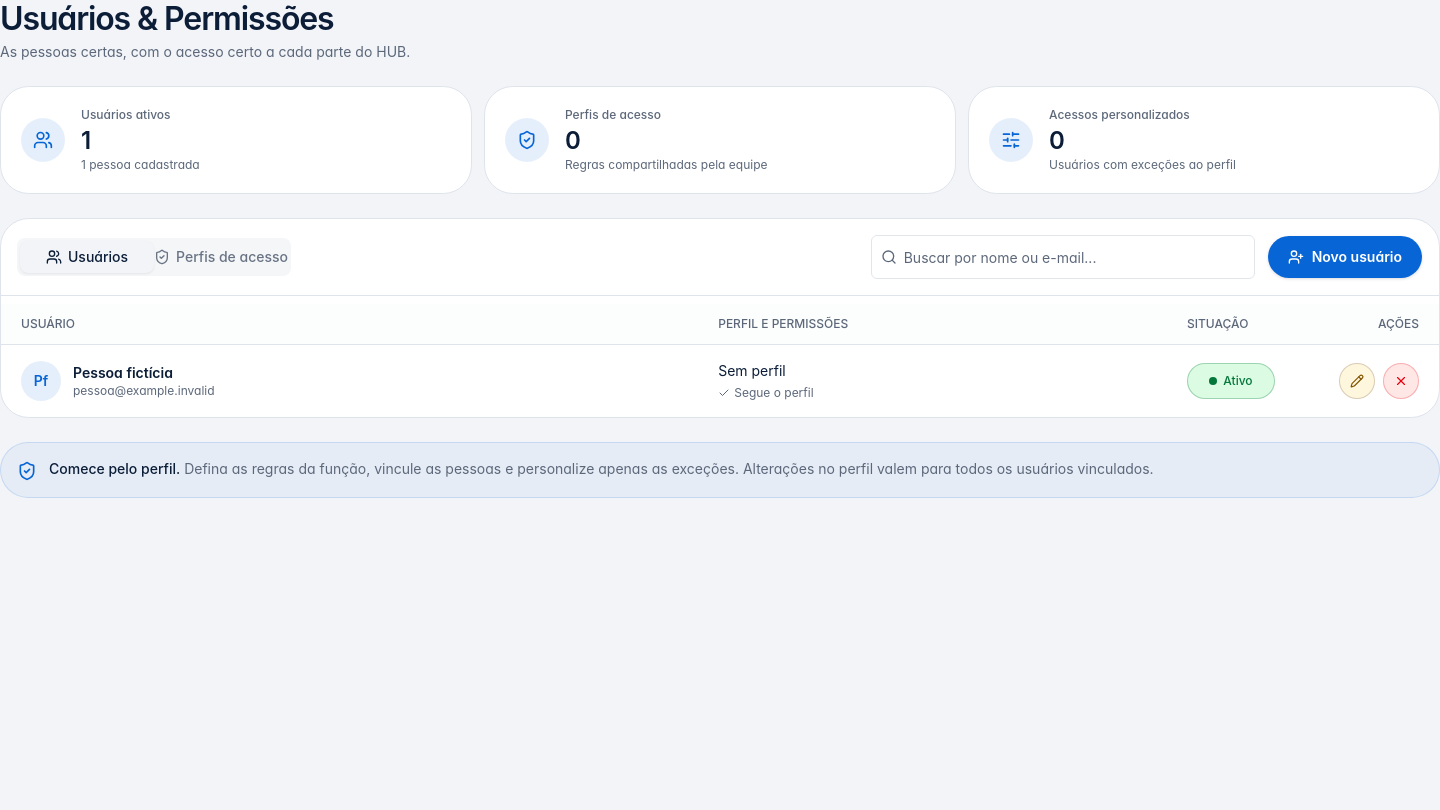
Scenario: oferece exclusão direta de usuário ativo=true com confirmação e cancelamento sem gravar
What coordinates should you click on to do the following:
click the button named "Excluir usuário Pessoa fictícia"
I would click on:
 (1401, 381)
Its box is [1383,363,1419,399].
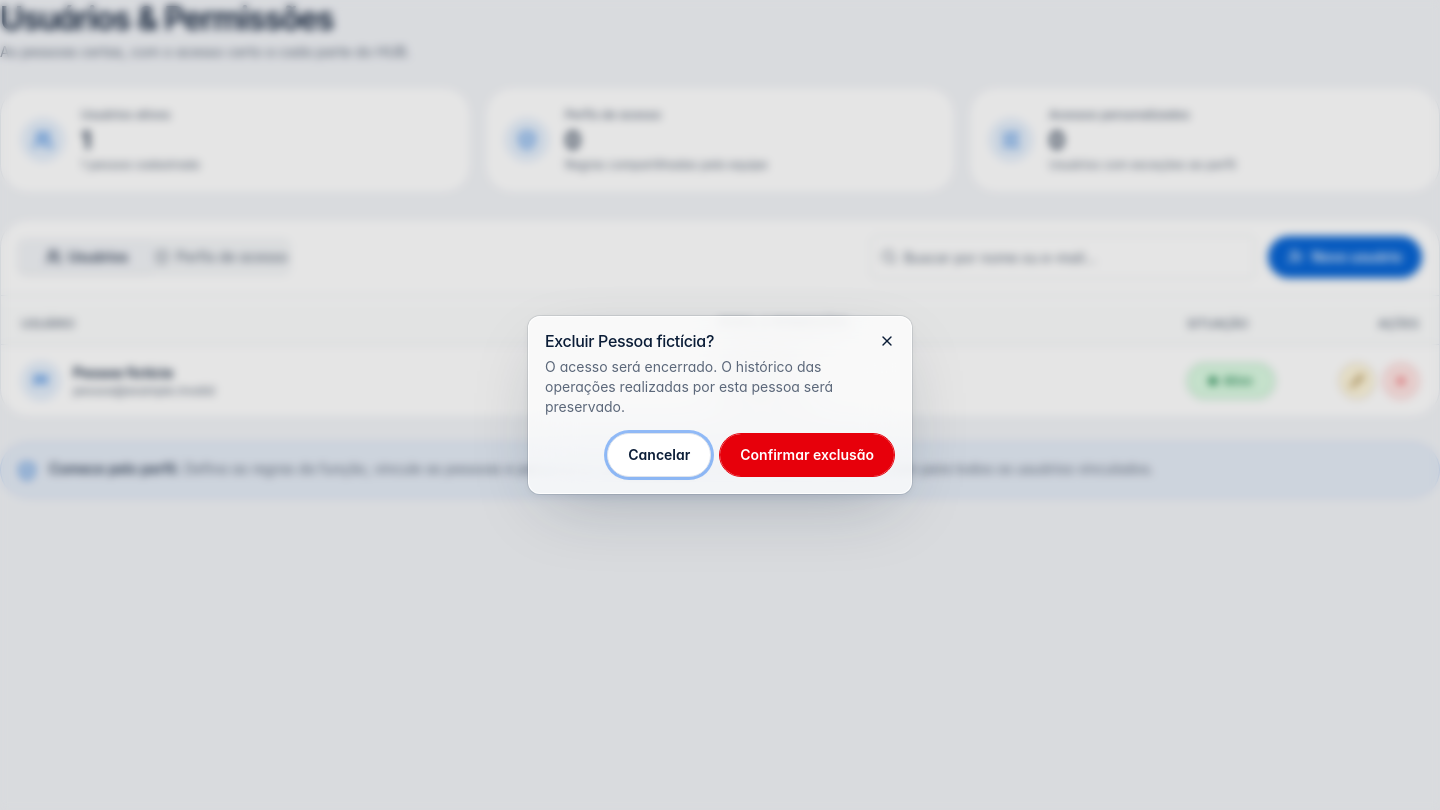
Now the number of dialogs is 1, box [528,316,912,494]
Now the text "O histórico das operações realizadas por esta pessoa será preservado" is shown, box [545,358,833,415]
What coordinates should you click on to do the following:
click the button "Cancelar"
I would click on:
 (659, 455)
Its box is [607,433,711,477].
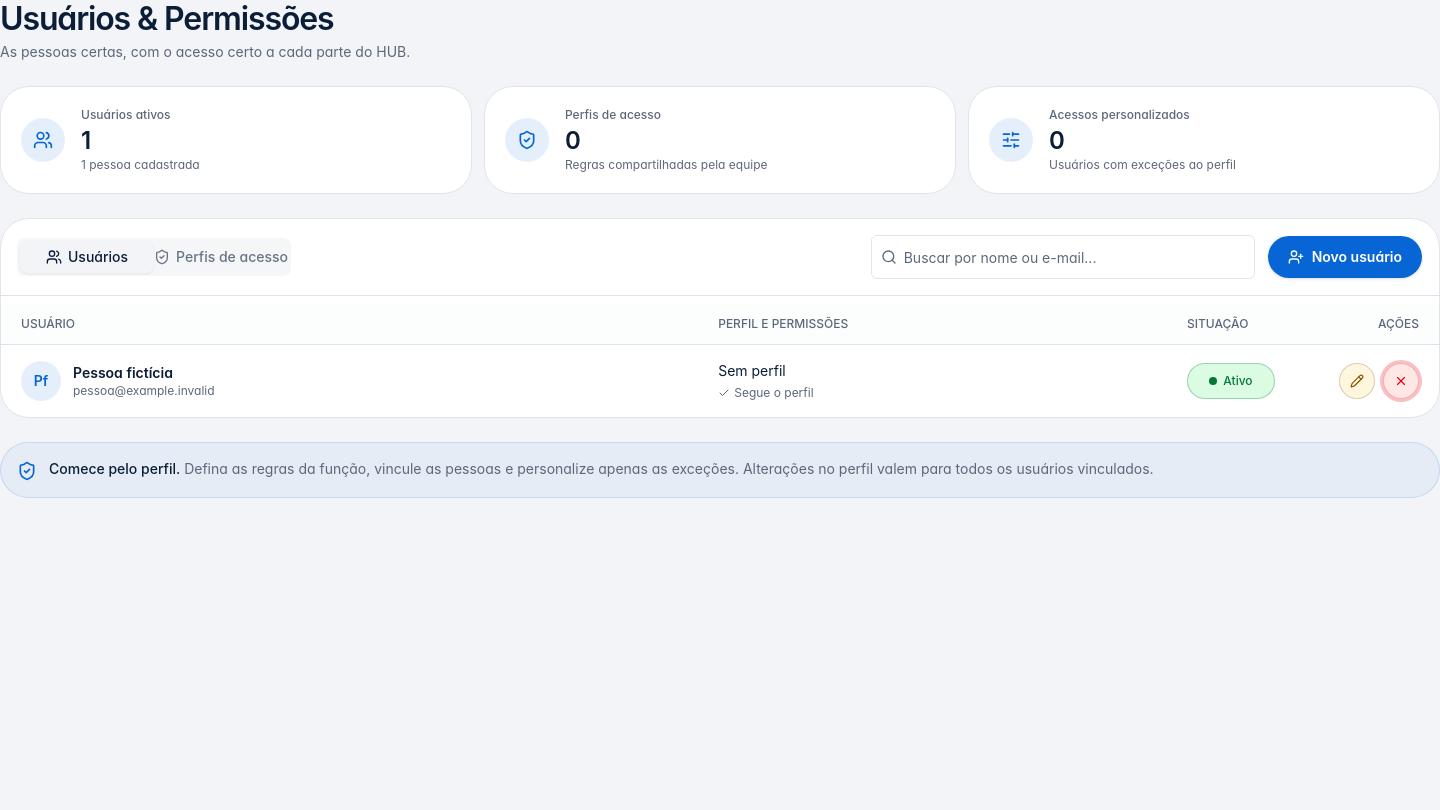
Expected: the button named "Excluir usuário Pessoa fictícia" is shown, [1383,363,1419,399]
Now the dialog is gone
